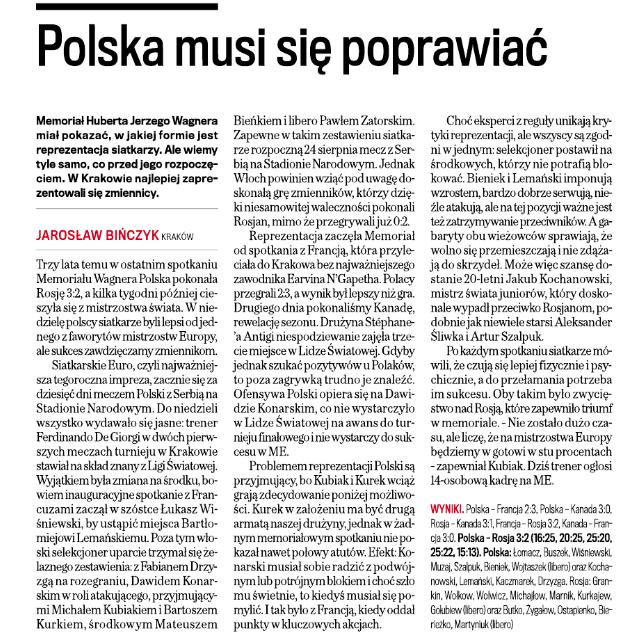author: (33, 220, 159, 246)
body: (230, 109, 422, 635), (31, 255, 225, 632), (427, 106, 613, 488)
lead: (31, 104, 223, 204)
title: (30, 16, 558, 82)
